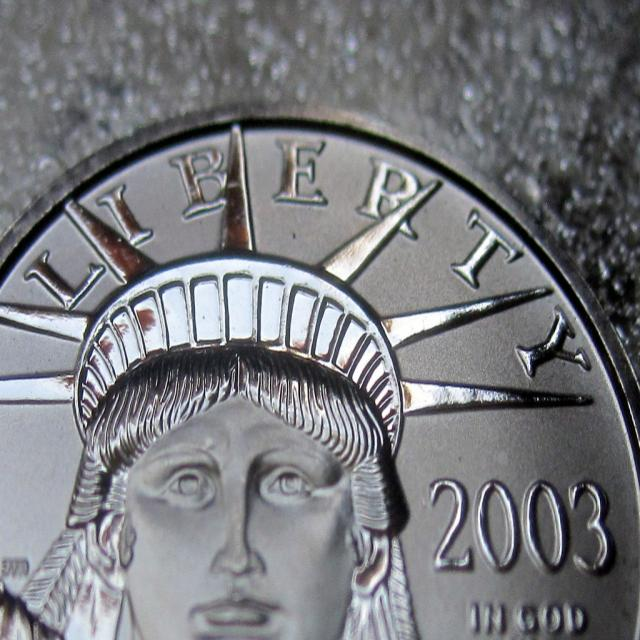Coin: (0, 100, 640, 639)
